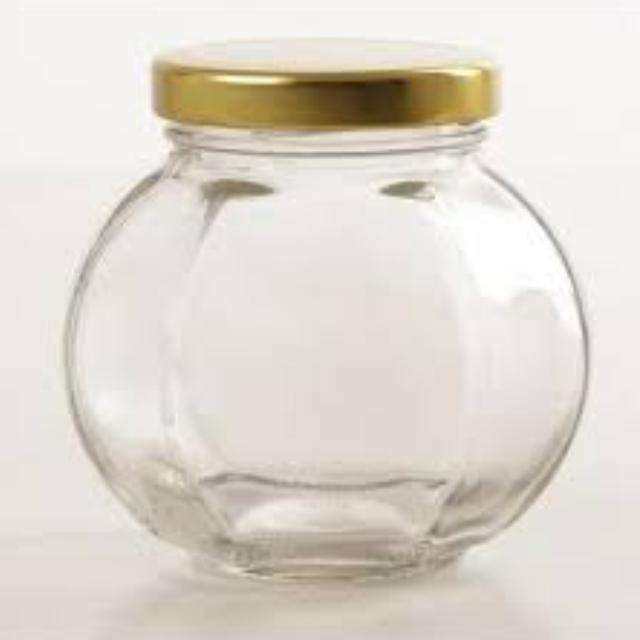ToplesKaca: (61, 33, 592, 585)
